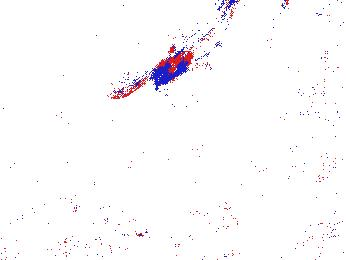glassfish: (147, 1, 241, 86)
siberian prawn: (134, 195, 253, 244), (18, 207, 141, 241)
